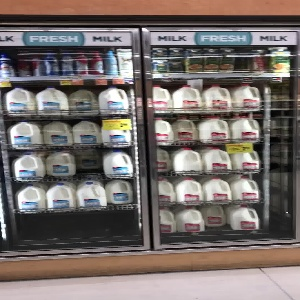void: (18, 210, 138, 243), (73, 148, 101, 177)
